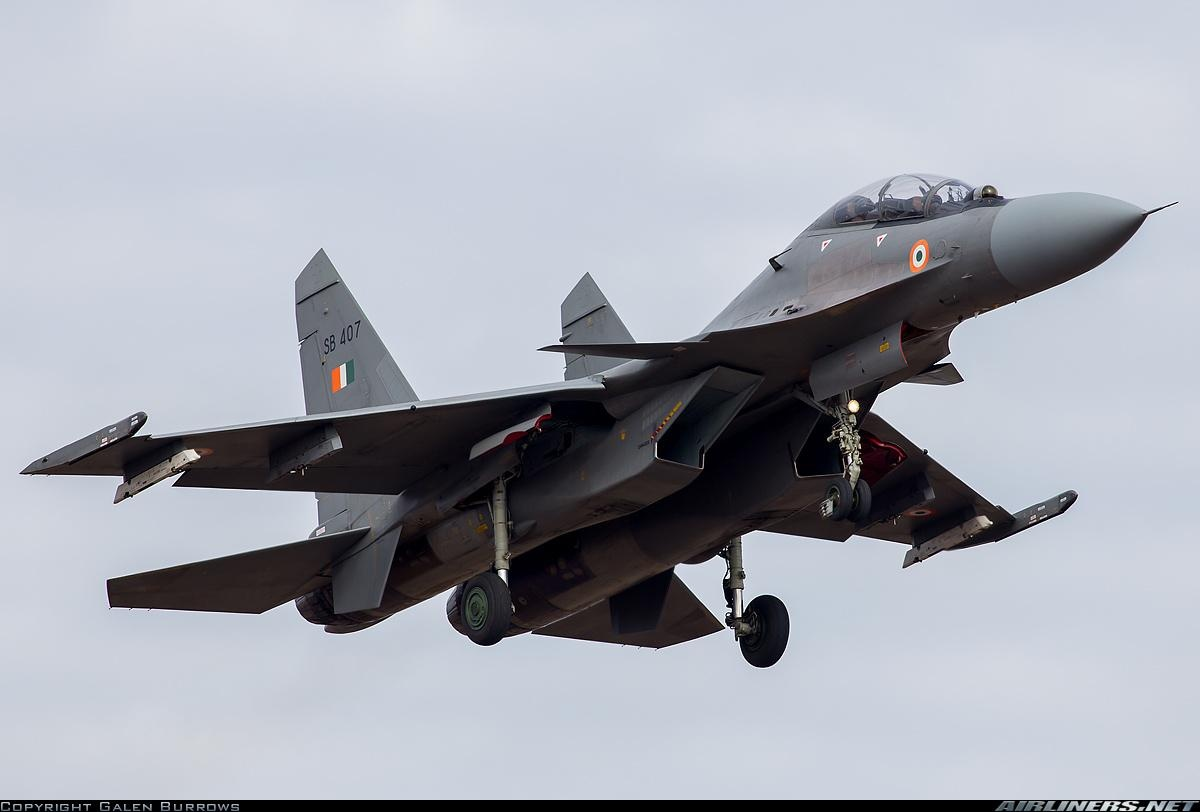aircraft: (52, 168, 1132, 666)
